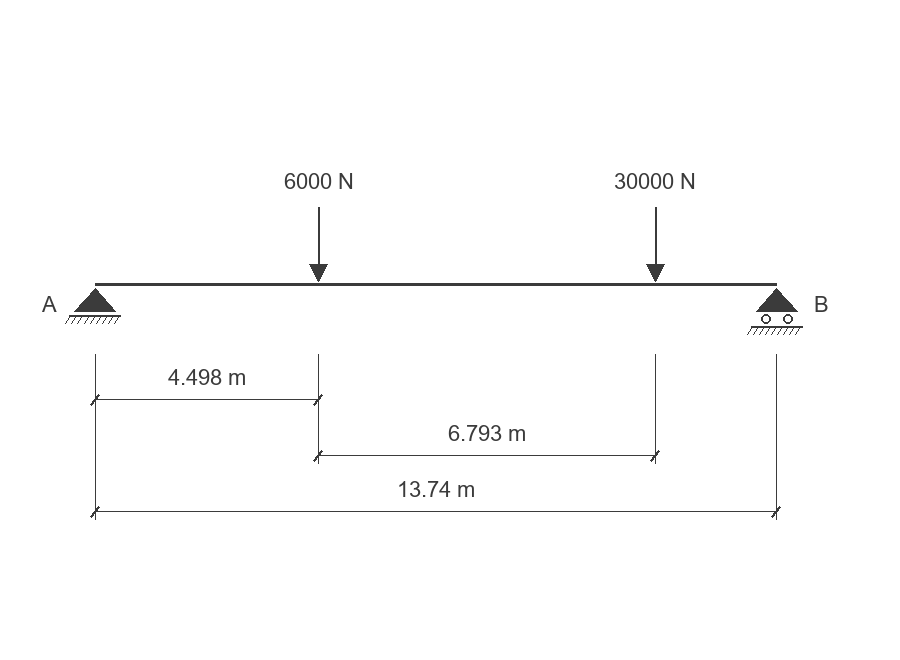pin_support: (65, 288, 121, 324)
point_load: (309, 207, 328, 282), (646, 207, 665, 282)
roller_support: (747, 288, 803, 335)
